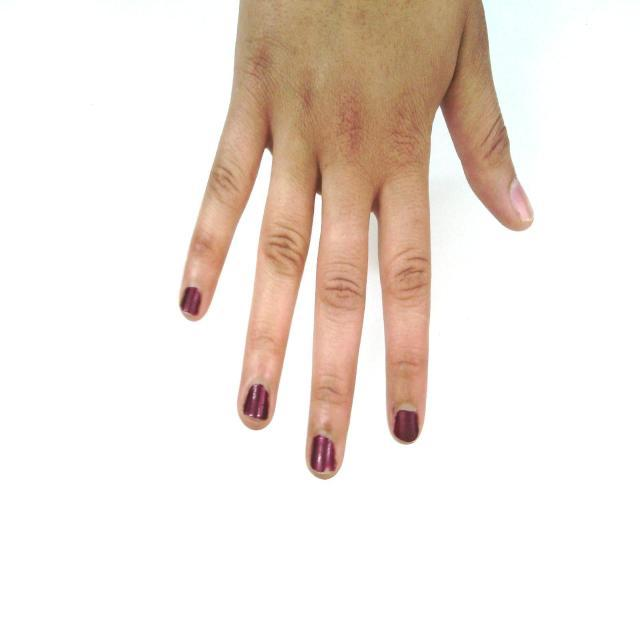Fingernail: (509, 178, 535, 221), (243, 379, 269, 421), (312, 431, 335, 473), (394, 403, 418, 443), (180, 286, 202, 316)
